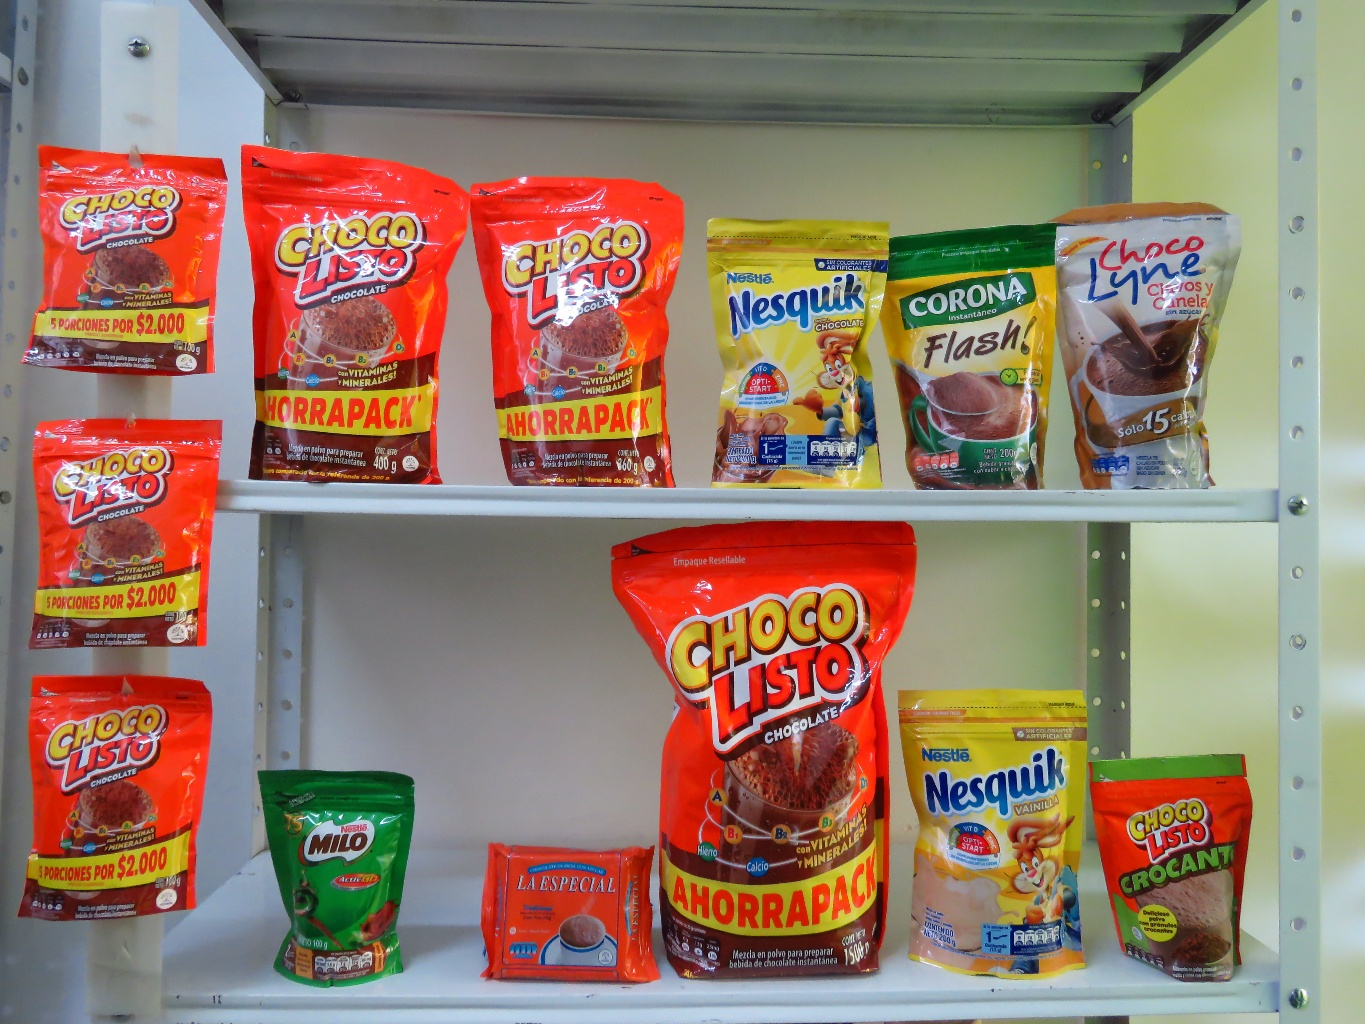COL0170102DYP10000: (1089, 736, 1259, 975)
COL0170103DYP1,500: (609, 518, 918, 975)
COL0170103DYP10000: (11, 656, 221, 916)
COL0170103DYP36000: (465, 174, 696, 490)
COL0170103DYP40000: (234, 144, 470, 487)
COL0170203DYP10000: (248, 765, 429, 992)
COL0170303DYP20000: (706, 202, 879, 485)
COL0170306DYP20000: (898, 682, 1087, 978)
